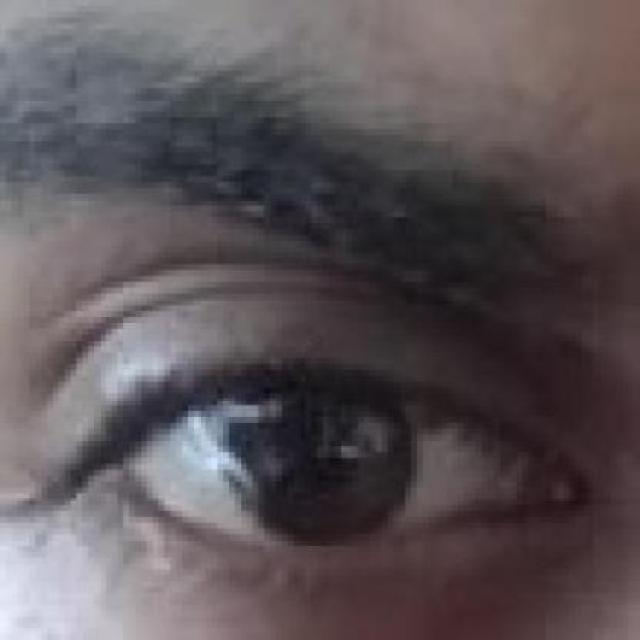awake: (70, 299, 582, 593)
